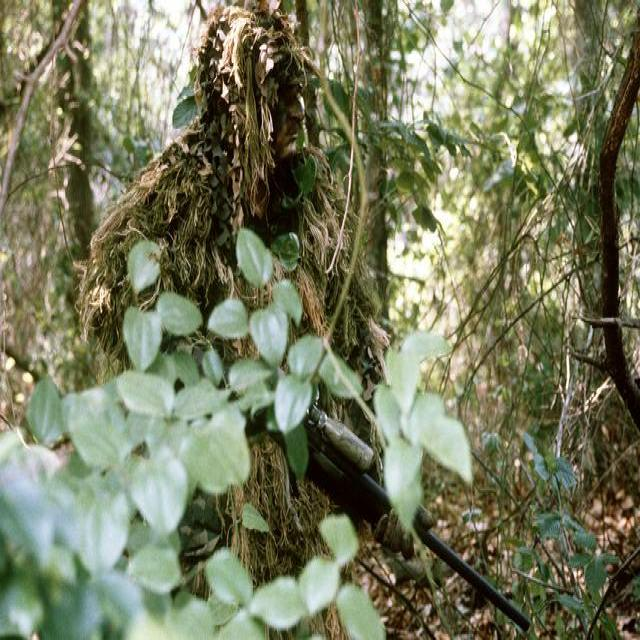Camouflage: (79, 10, 521, 620)
